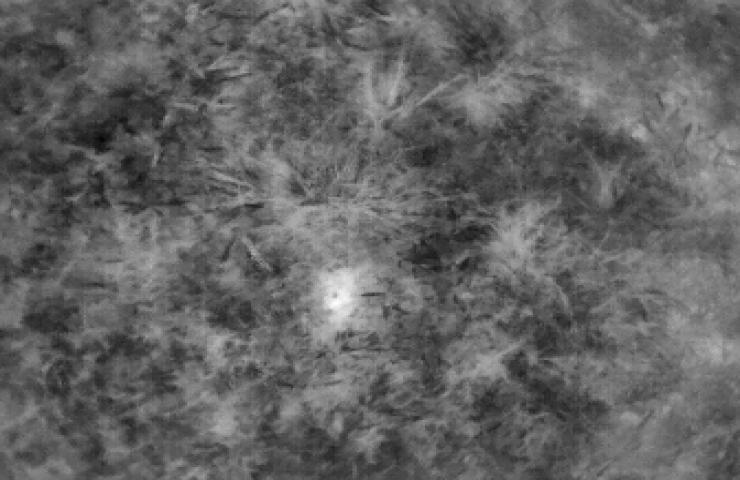landmines: (317, 270, 363, 315)
